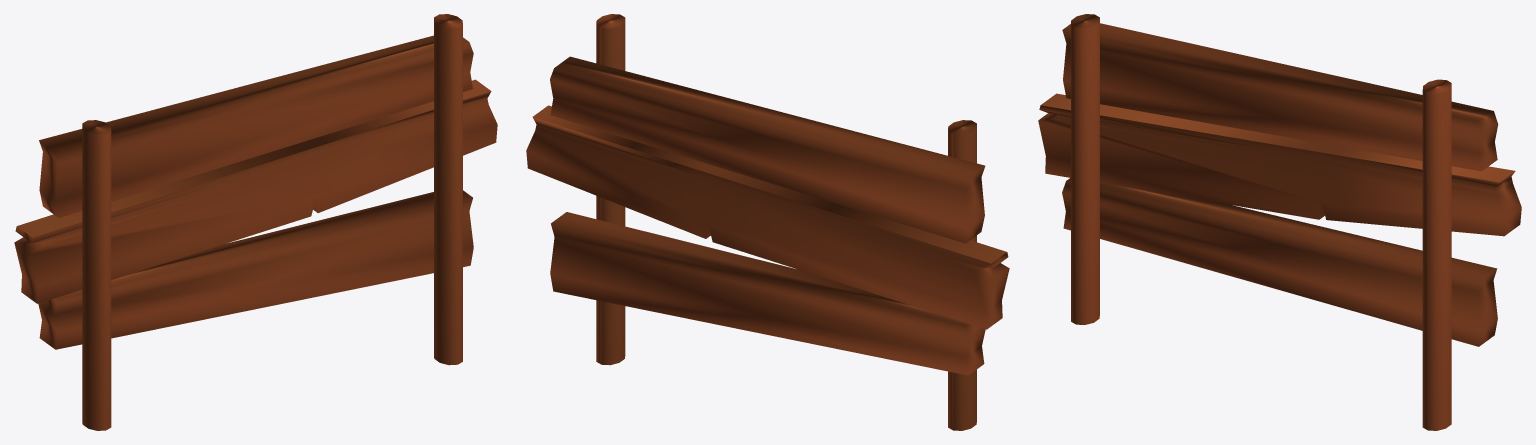
File: LowPolyFence3.fbx
3 views of the same model, side by side, from view 1: azimuth 30°, elevation 25°; view 2: azimuth 150°, elevation 25°; view 3: azimuth 330°, elevation 25° (orthographic).
Parts seen in each view (by area): view 1: Cylinder; view 2: Cylinder; view 3: Cylinder.
Part boxes in pixels (left/top/right/bottom): Cylinder: left=14, top=14, right=497, bottom=430; Cylinder: left=526, top=14, right=1009, bottom=430; Cylinder: left=1038, top=14, right=1521, bottom=430.
Size of the model in its own units: 10159 by 6996 by 1320.
